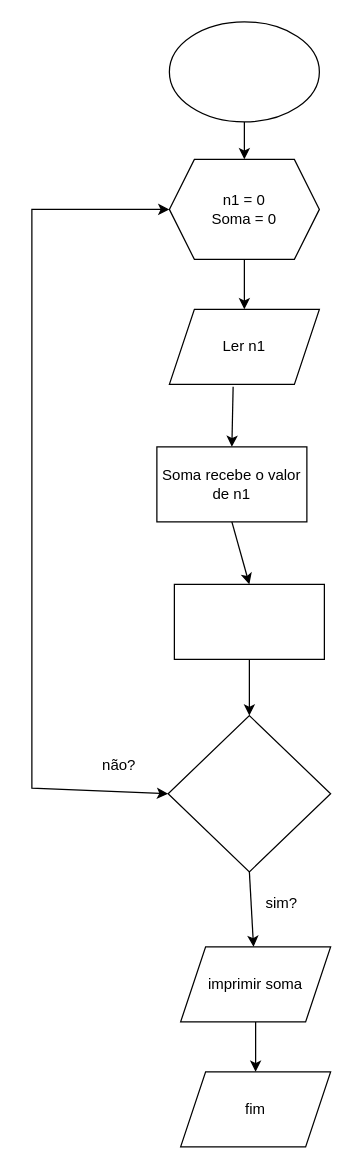
Some shapes in this 353 by 1169 pixel diagram are drawn without their labels. Here are the shapes that lost their labels. From the top down, the box of each, then its label:
(168, 21, 319, 122): inicio
(173, 583, 324, 659): n1 recebe +1
(167, 714, 331, 872): n1 >= 5
